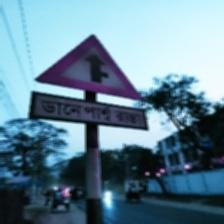Side-road-right: (31, 34, 147, 131)
